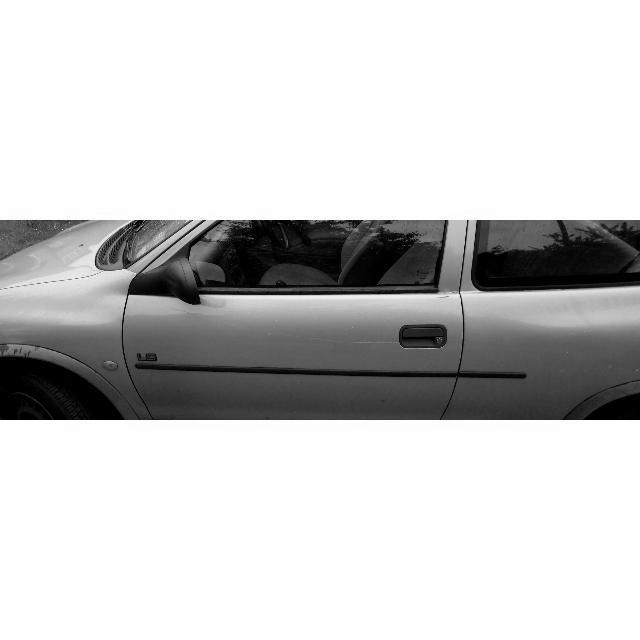bonnet-dent: (0, 221, 144, 284)
doorouter-dent: (121, 280, 455, 420)
